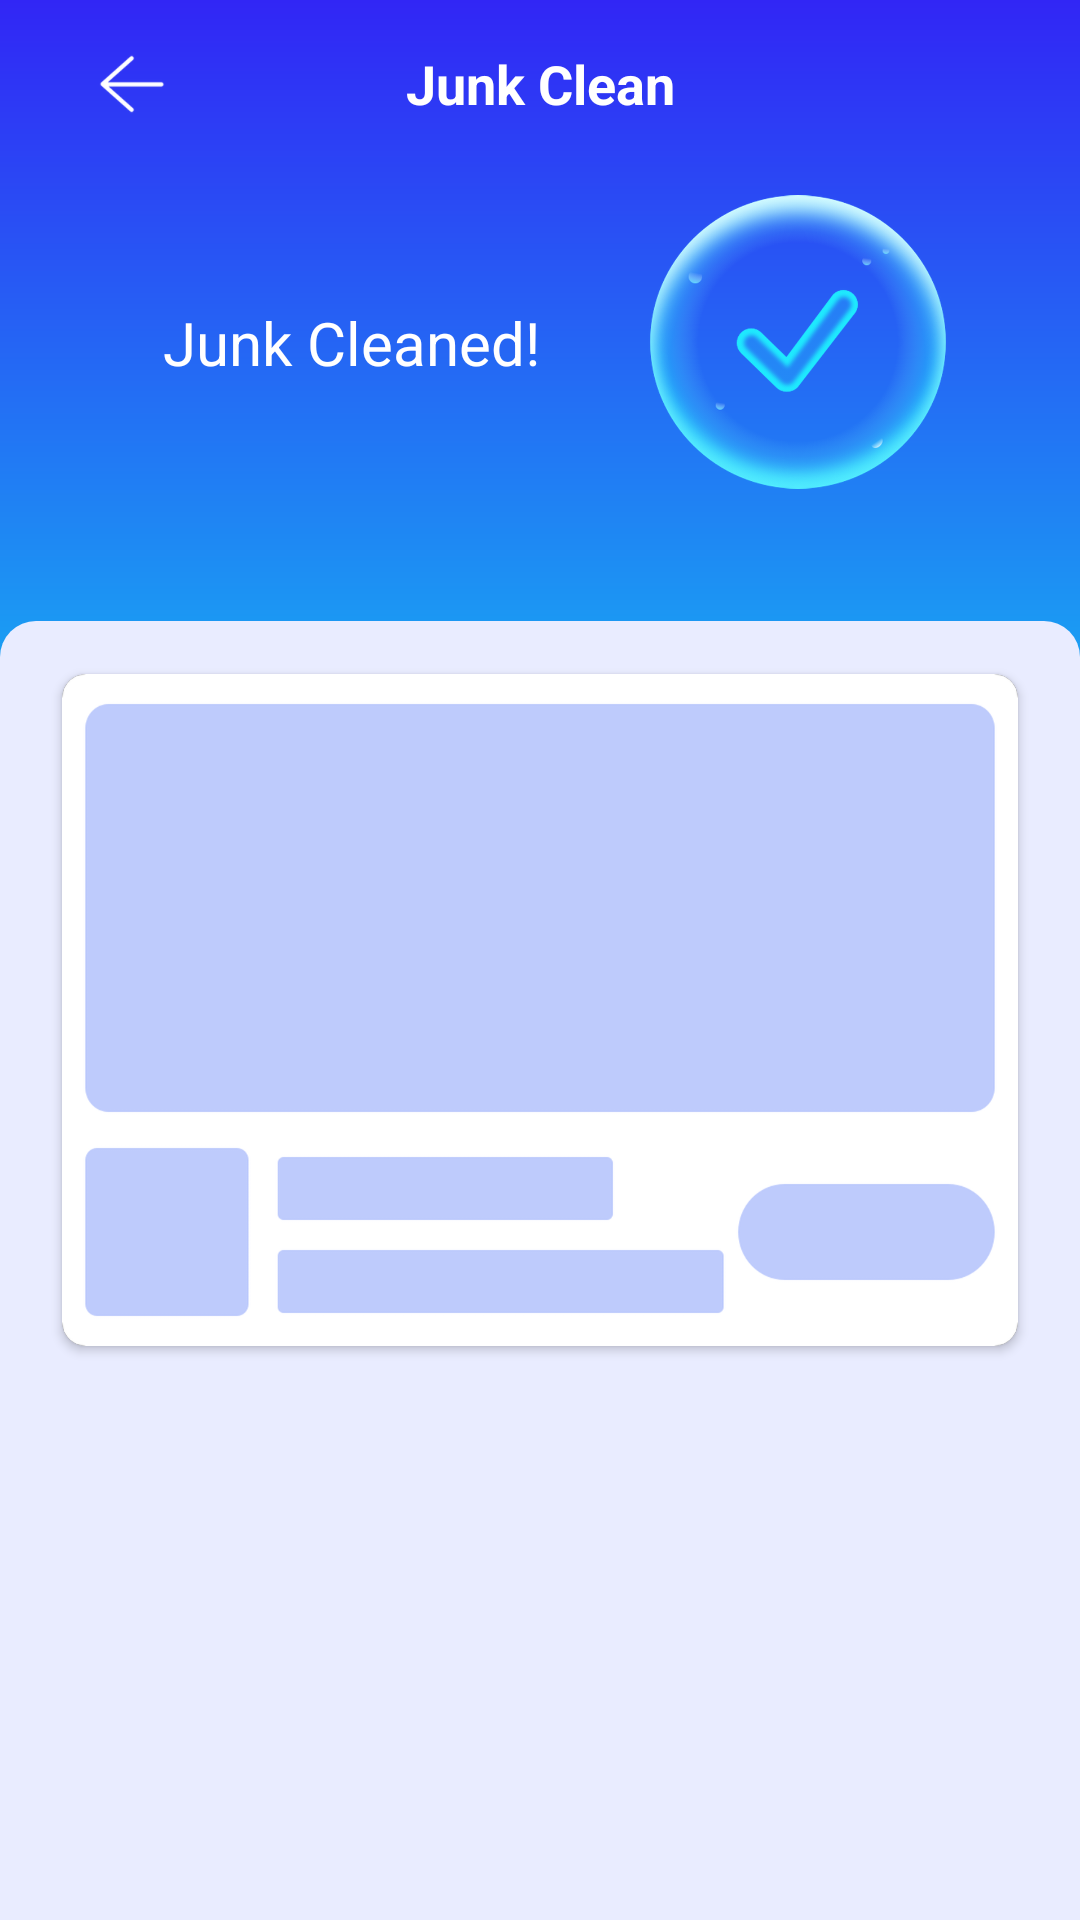

Screen size 1080*1920. Icon name, then its center in pixels as [x,y]:
boost end: [798,342]
